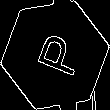P_W: (26, 29, 84, 81)
